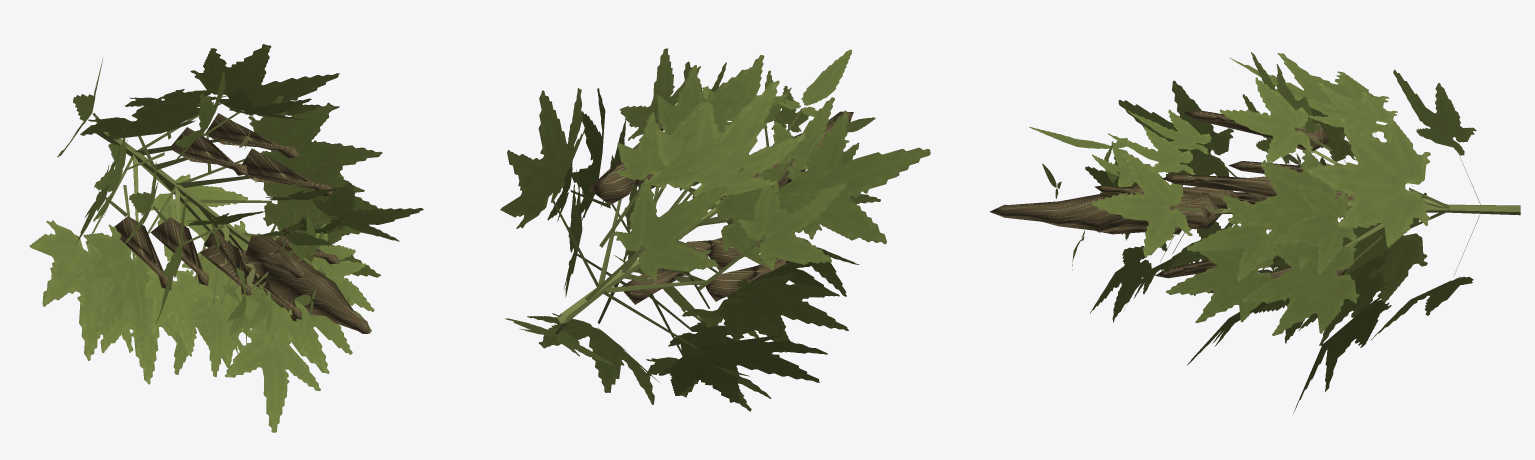
The model's file is p_dark_tree_flowering_c1_cards.obj.
3 renders of one model, left to right at view 1: azimuth 30°, elevation 25°; view 2: azimuth 150°, elevation 25°; view 3: azimuth 270°, elevation 25°, orthographic. The views are drawn at different scales.
Bounding box in the file's own units: 1.39 × 1.41 × 1.79.
1 material, 1 textured.
